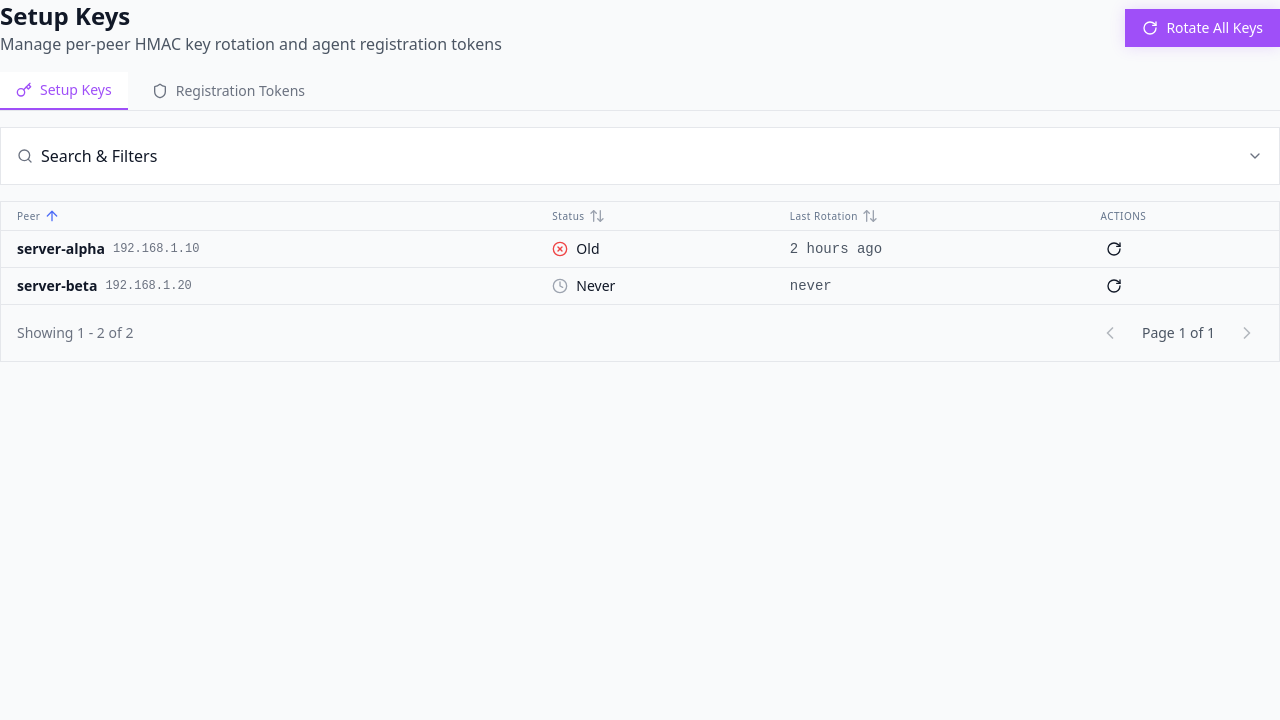
Test: SetupKeys Page › shows rotate confirmation for single peer
Expected: the text "server-alpha" is shown, [17,239,105,259]
Click the button titled "Rotate Key" in the row of "server-alpha": coordinates (1114, 249) [1100,235,1128,263]
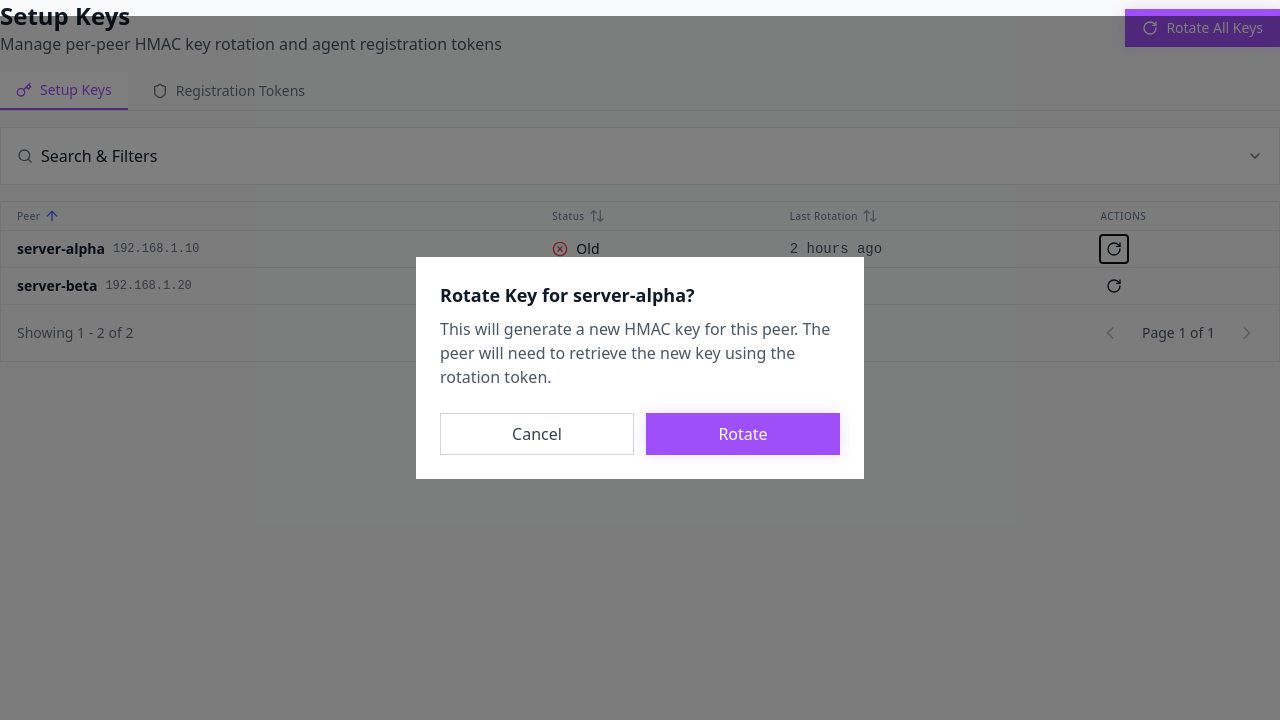
Expected: the heading "Rotate Key for server-alpha?" is shown, [440,283,695,307]
